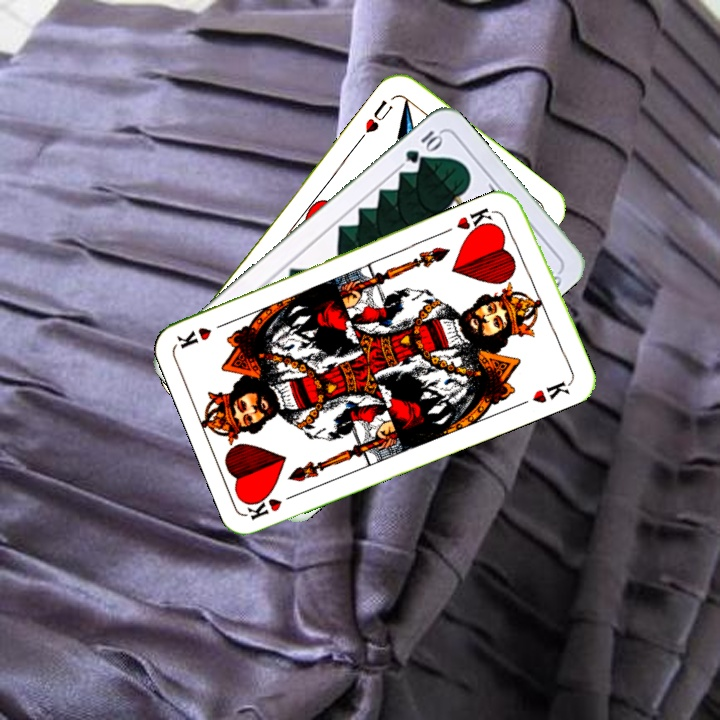G10: (401, 126, 445, 166)
HK: (242, 488, 302, 523), (452, 203, 502, 239)
HU: (356, 95, 395, 143)
